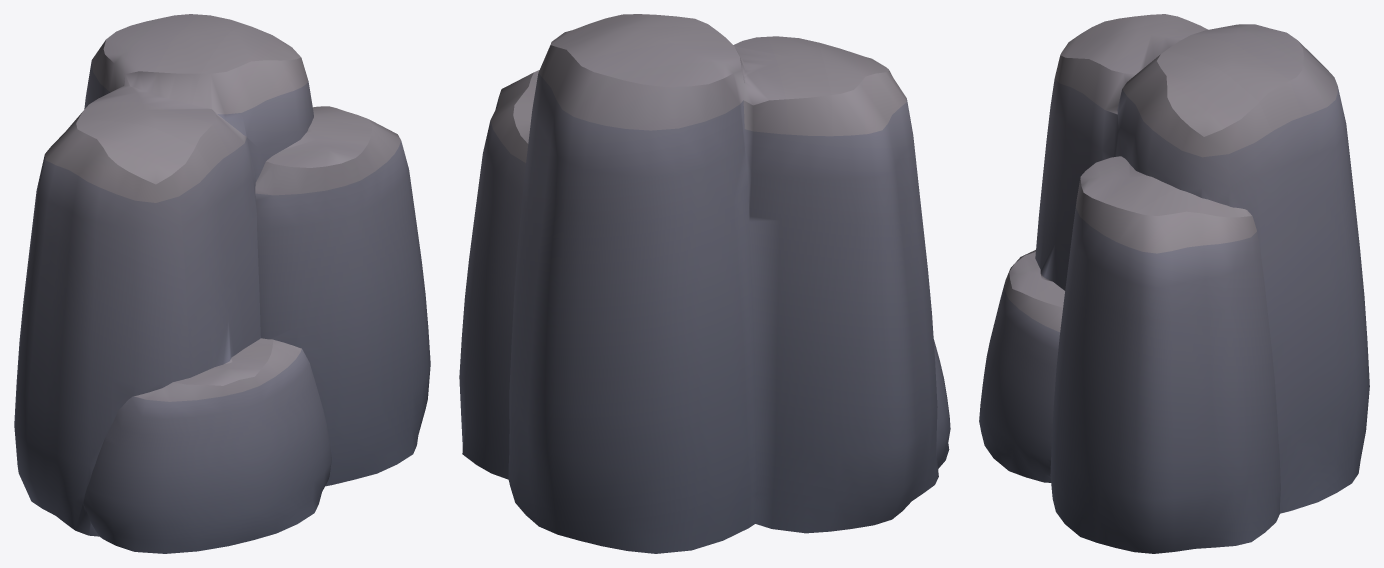
The model's file is RockGroup.gltf.
The picture shows the model from 3 angles, left to right: view 1: azimuth 30°, elevation 25°; view 2: azimuth 150°, elevation 25°; view 3: azimuth 270°, elevation 25°; orthographic projection. The views are drawn at different scales.
Visible parts, largest first — view 1: RockGroup; view 2: RockGroup; view 3: RockGroup.
Part boxes in pixels (x1,y1,x2,y2): RockGroup: (14, 14, 430, 553); RockGroup: (459, 14, 950, 553); RockGroup: (979, 14, 1369, 553).
Bounding box in the file's own units: 2.06 × 1.99 × 1.71.
Materials: 1 (1 with a texture image).
